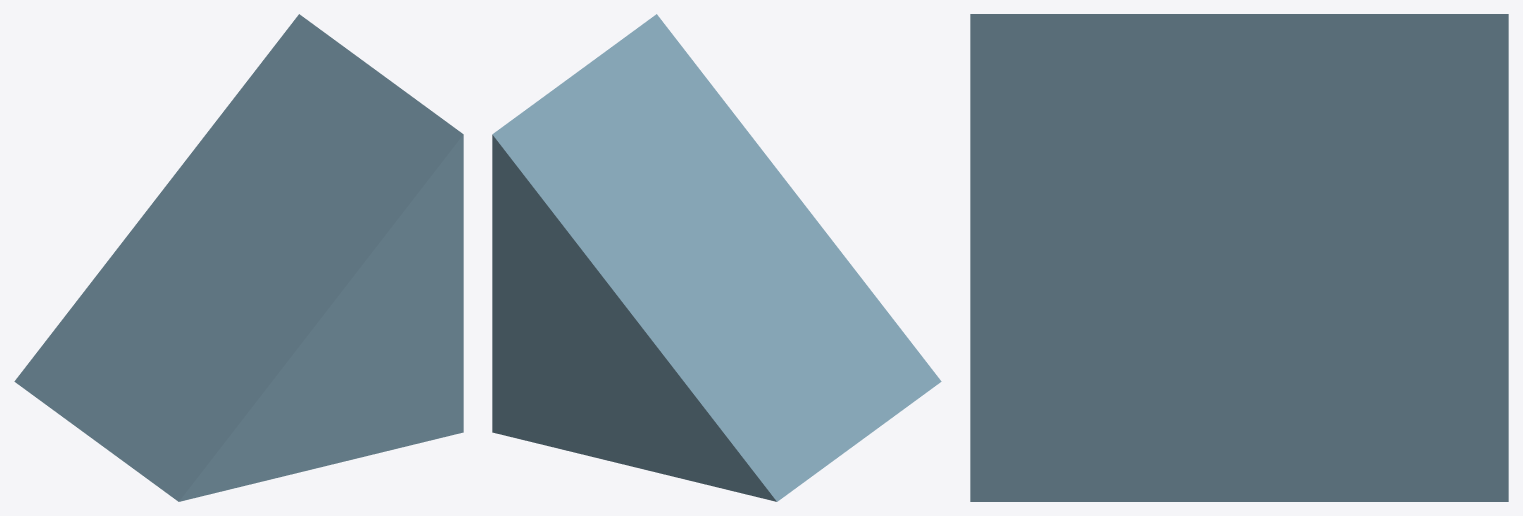
Rendered from Conveyor_Slope.glb.
3 renders of one model, left to right at view 1: azimuth 30°, elevation 25°; view 2: azimuth 150°, elevation 25°; view 3: azimuth 270°, elevation 25°, orthographic. The views are drawn at different scales.
Parts seen in each view (by area): view 1: Conveyor_Slope_body; view 2: Conveyor_Slope_body; view 3: Conveyor_Slope_body.
Boxes of the visible parts, x1,y1,x2,y2 form: Conveyor_Slope_body: (14,14,463,501); Conveyor_Slope_body: (492,14,941,501); Conveyor_Slope_body: (970,14,1508,501).
Bounding box in the file's own units: 1 × 1 × 1.
